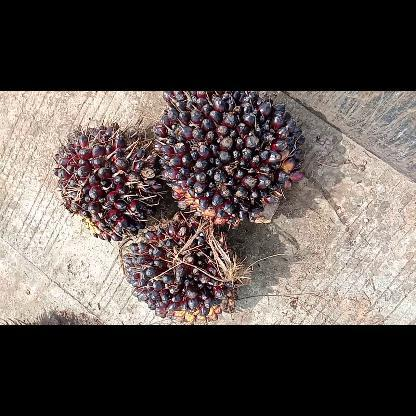TBS mentah: (150, 90, 312, 228), (115, 210, 245, 324), (50, 120, 168, 244)
